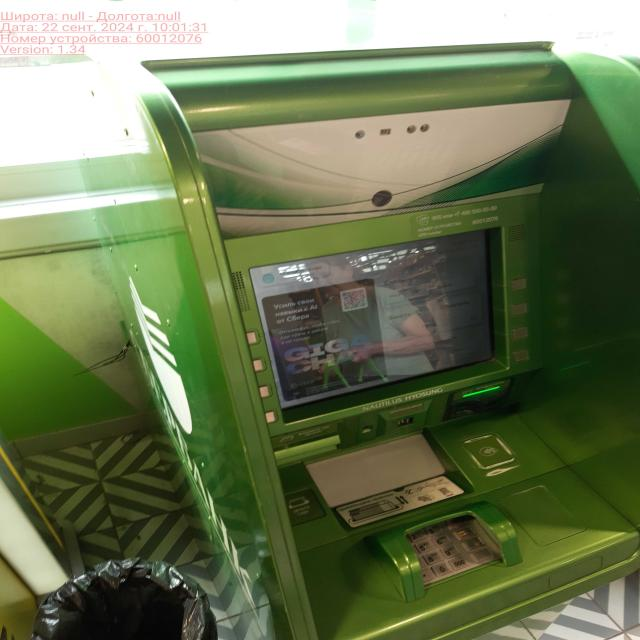bank: (82, 43, 640, 640)
